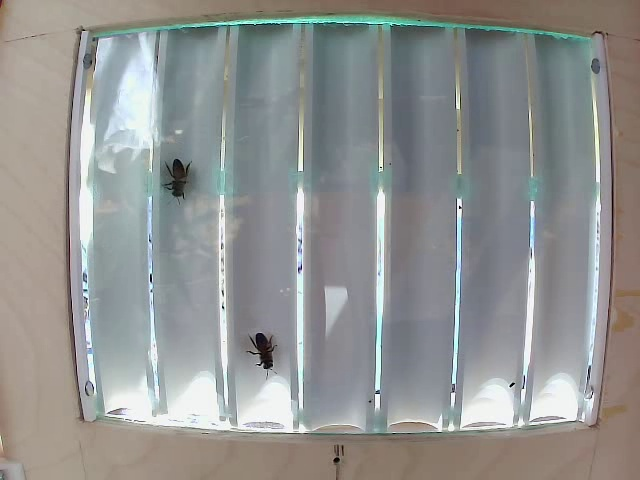bee: (250, 316, 287, 378), (158, 155, 203, 197)
